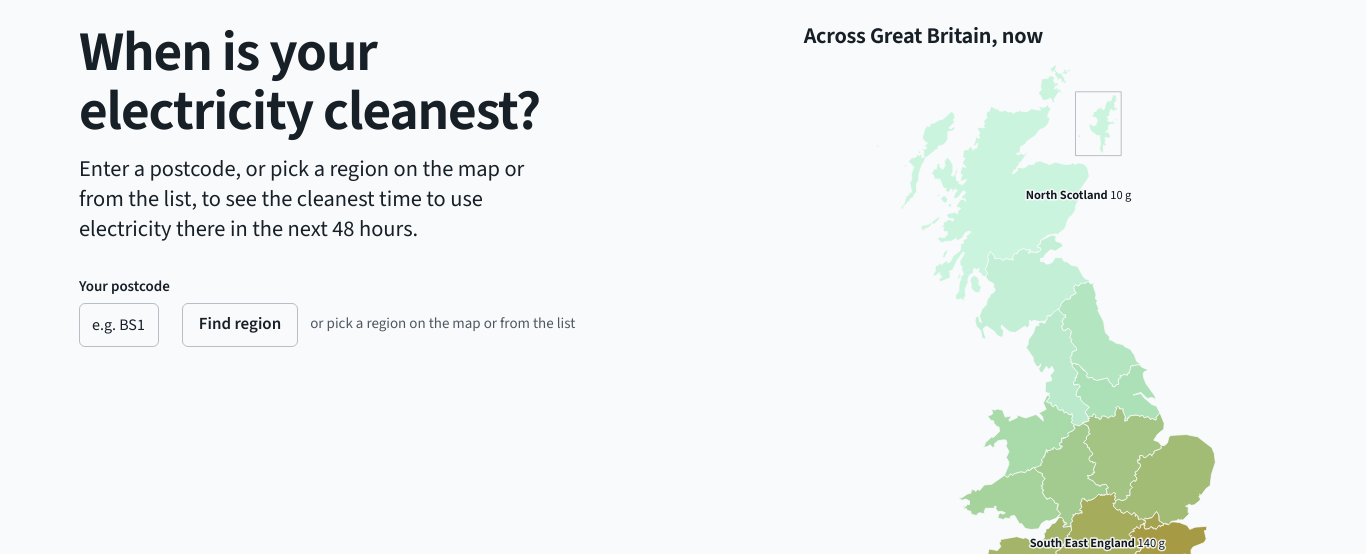
Test: shows the region a postcode belongs to
Expected: the heading "When is your electricity cleanest?" is shown, 79,13 -> 540,151
Type "CF10 1AA" into the field labelled "Your postcode".
click(119, 325); type("CF10 1AA")  # box 79,303 -> 158,347
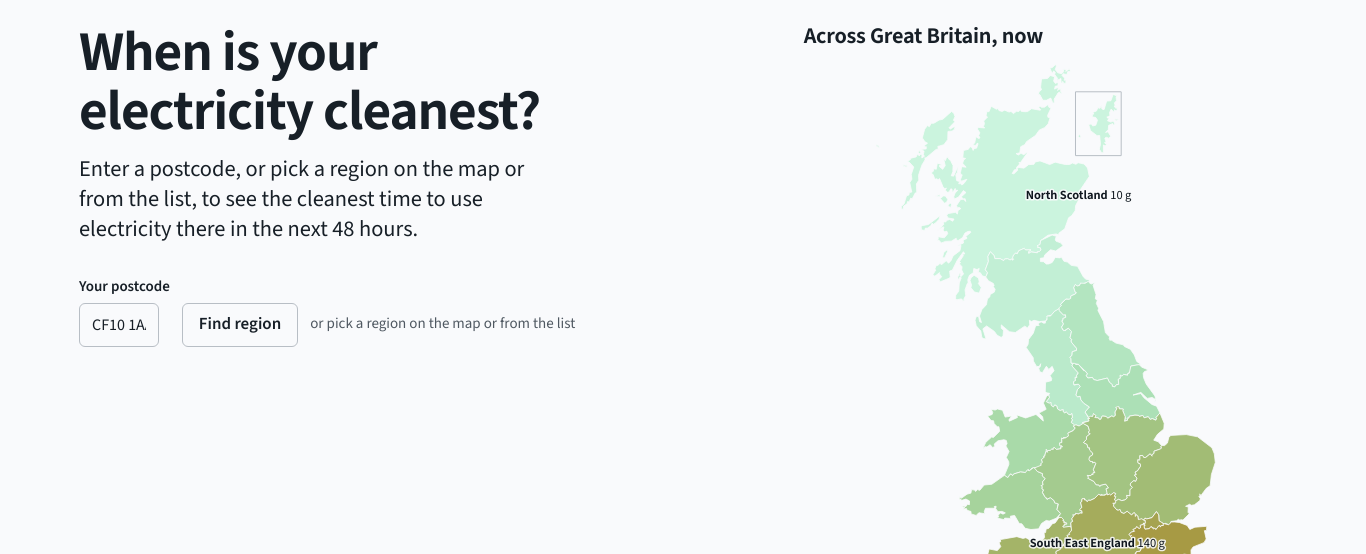
Click the button "Find region".
click(240, 325)  # box 182,303 -> 298,347
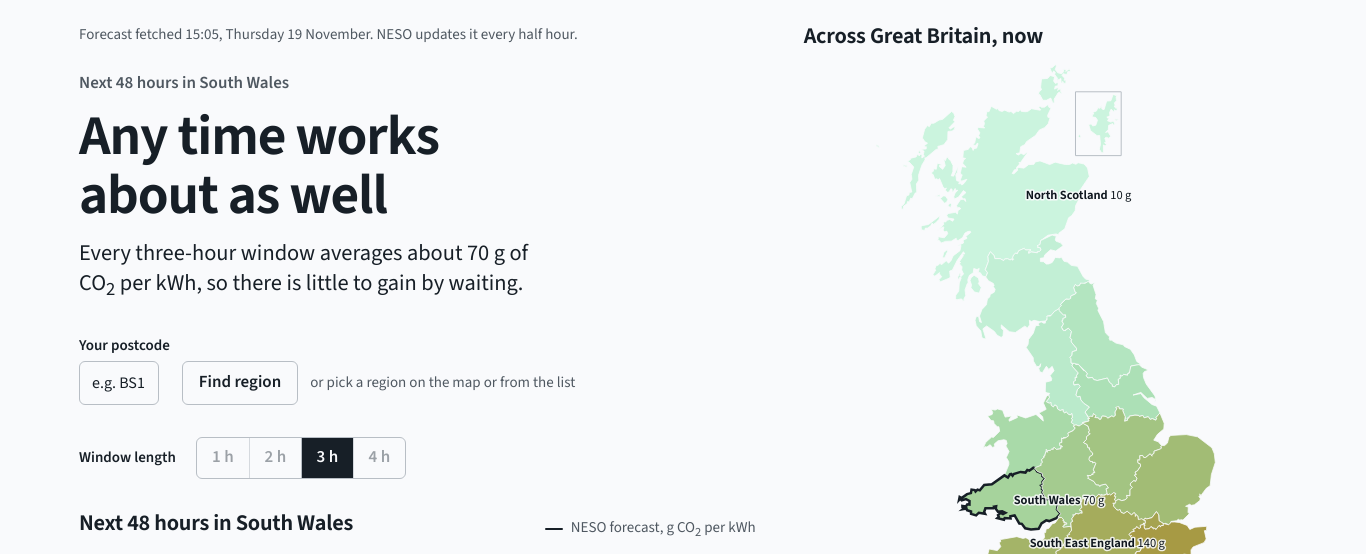
Result: the heading "Next 48 hours in South Wales" is shown at 79,511 -> 353,537
